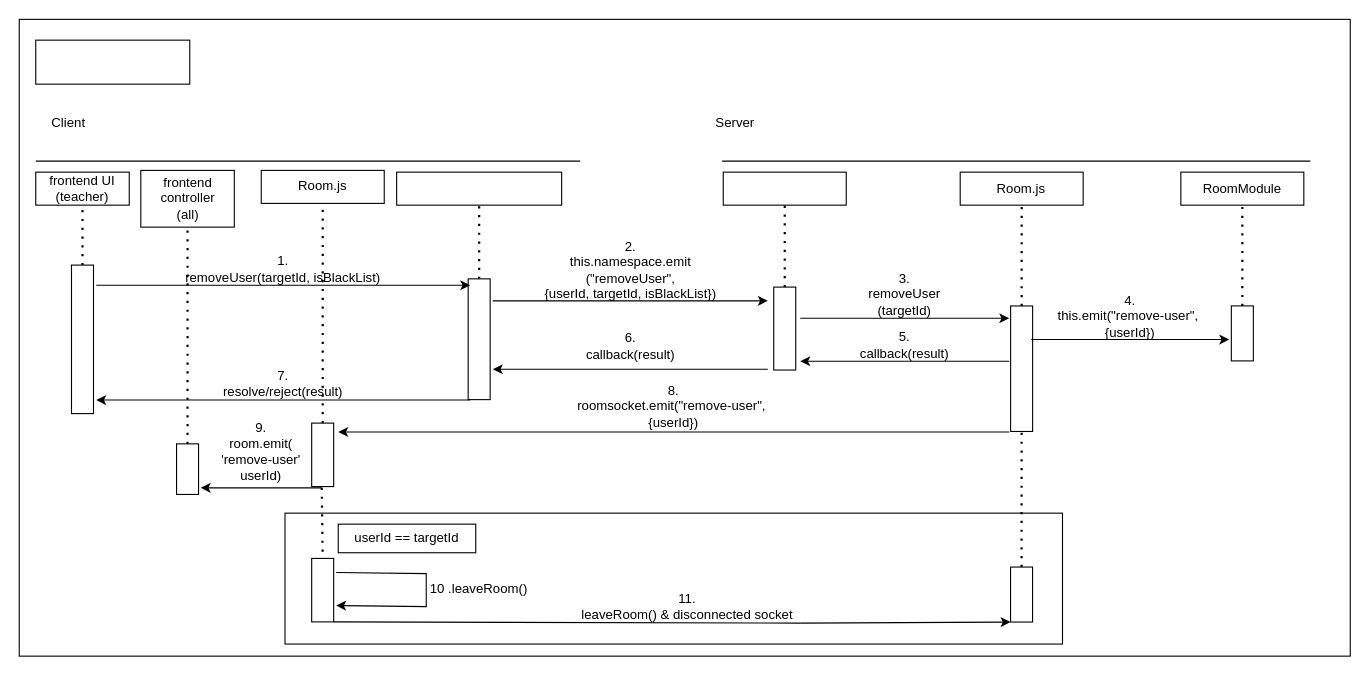
This 1370x675 diagram has some shape labels left out. The shapes that lost their labels are listed below. From the top down, each one's box as (x1, y1, x2, y2) in pixels, then its label:
(35, 39, 190, 84): Krpanoroom : publish
(396, 171, 562, 205): RoomModule/ RoomManagerClient
(722, 171, 846, 205): RoomModule/ RoomManager.js
